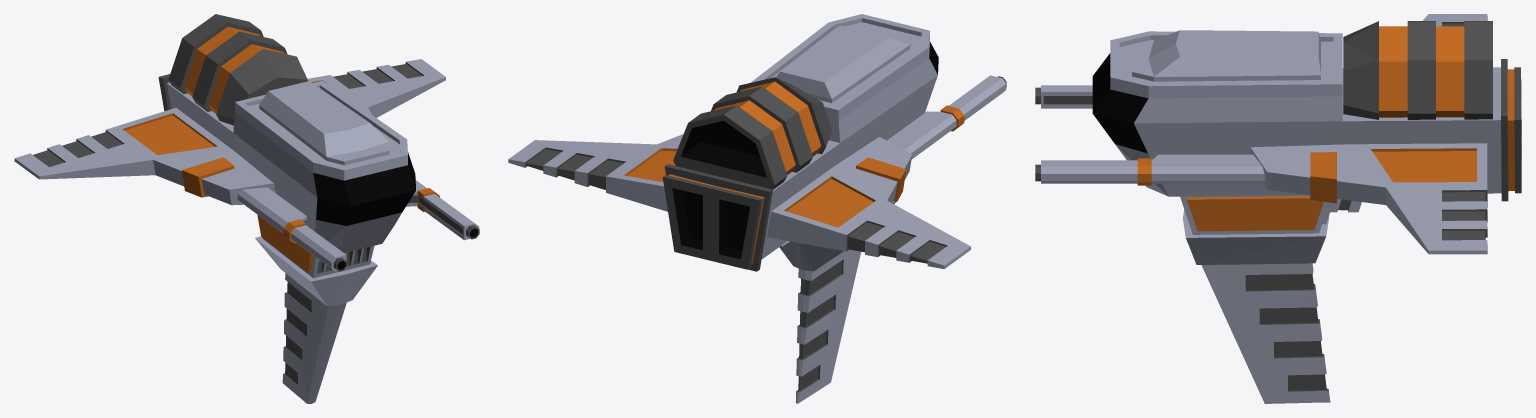
The model's file is Spaceship12_4.fbx.
The picture shows the model from 3 angles, left to right: view 1: azimuth 30°, elevation 25°; view 2: azimuth 150°, elevation 25°; view 3: azimuth 270°, elevation 25°; orthographic projection. The views are drawn at different scales.
Parts seen in each view (by area): view 1: Spaceship12_4; view 2: Spaceship12_4; view 3: Spaceship12_4.
Part boxes in pixels (<box>): Spaceship12_4: <box>14,14,479,403</box>; Spaceship12_4: <box>508,14,1006,403</box>; Spaceship12_4: <box>1035,14,1521,403</box>.
Bounding box in the file's own units: 1337 × 1004 × 1162.
